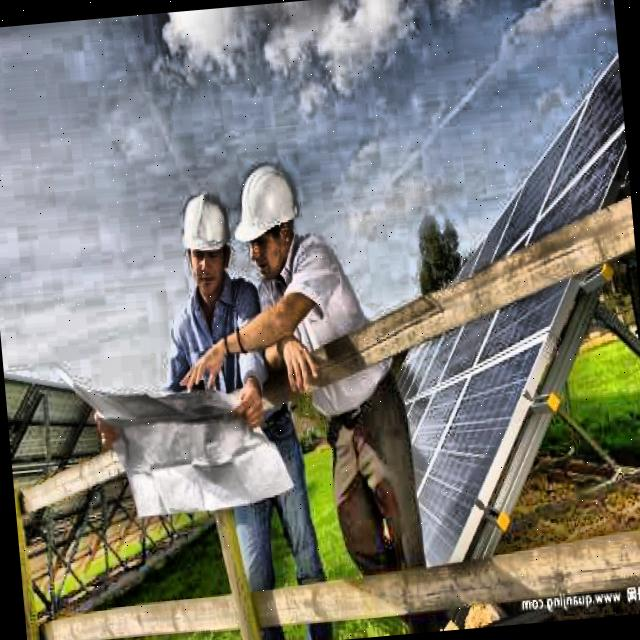helmet: (228, 154, 304, 286), (176, 180, 238, 308)
